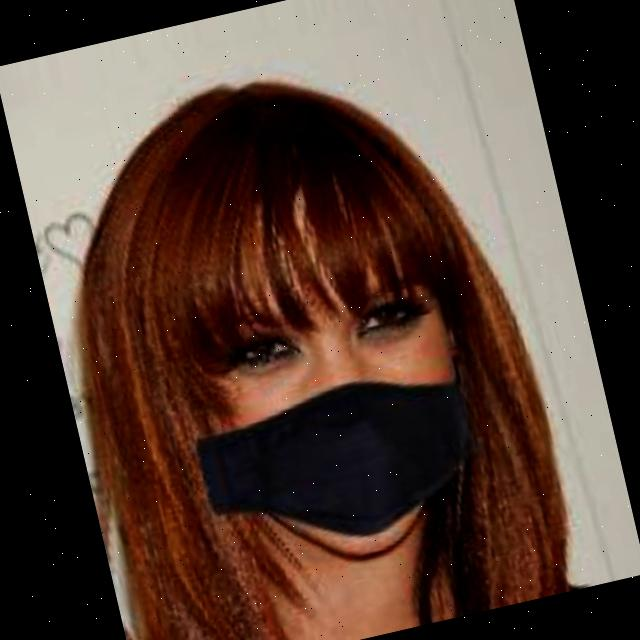suspicion: (110, 69, 566, 585)
